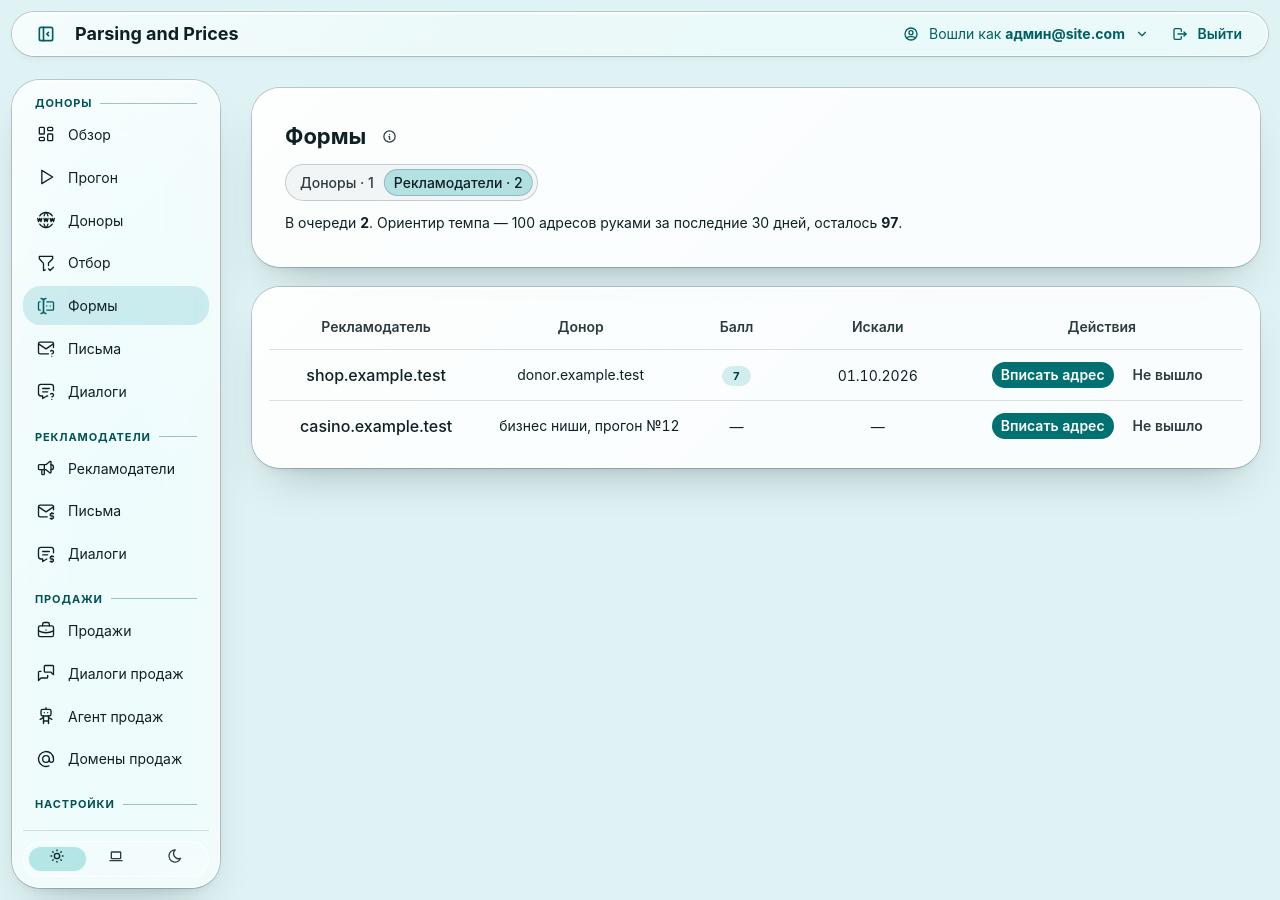
формы: вкладка рекламодателей › «Не вышло» — с подтверждением своими словами
Expected: the link "shop.example.test" is shown, [306, 363, 446, 388]
Click the button "Не вышло" in the row of "shop".
click(1168, 376)  # box [1124, 362, 1212, 388]
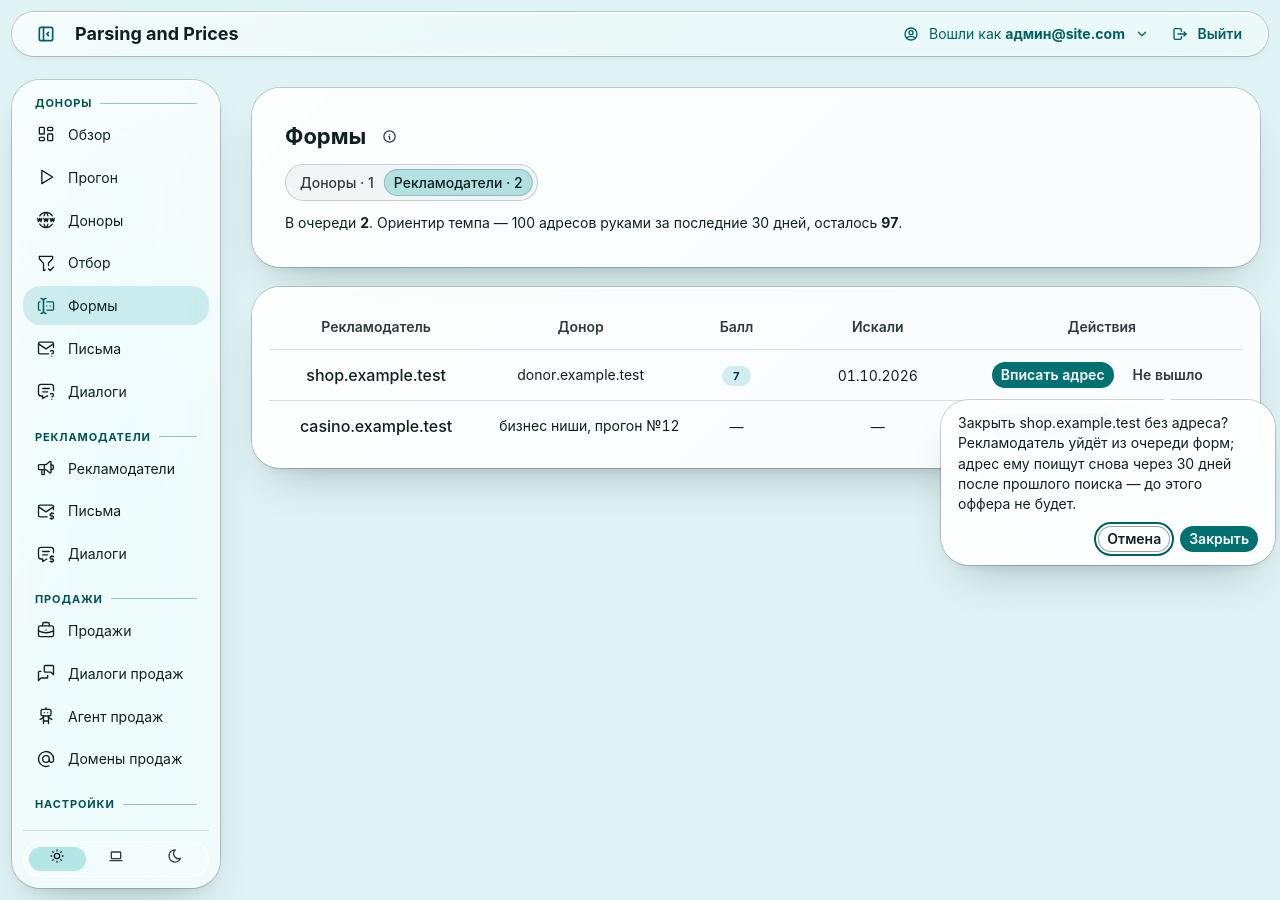
Click the button "Закрыть".
click(1219, 540)  # box [1180, 526, 1258, 552]
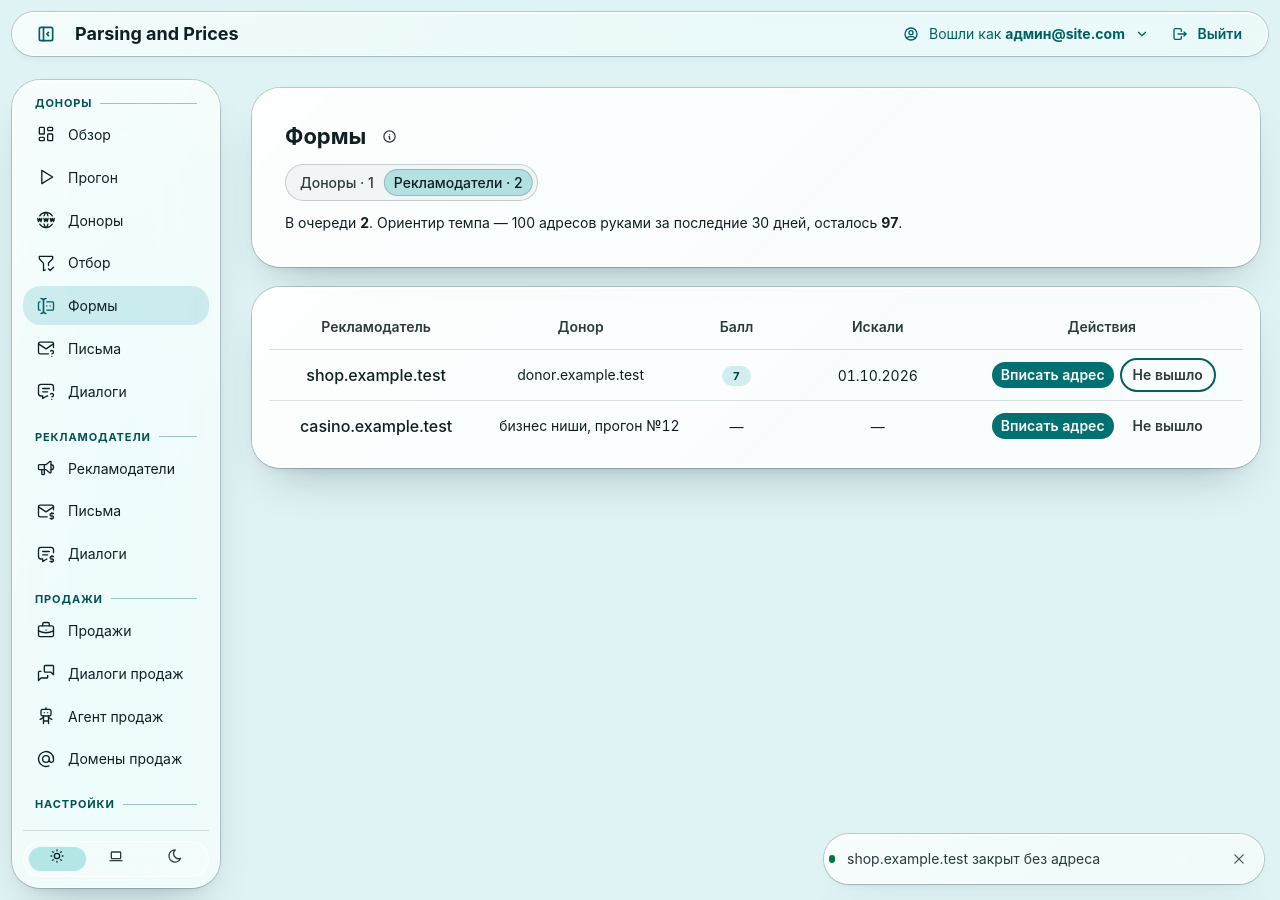
Result: the text "shop.example.test закрыт без адреса" is shown at [847, 850, 1100, 867]
